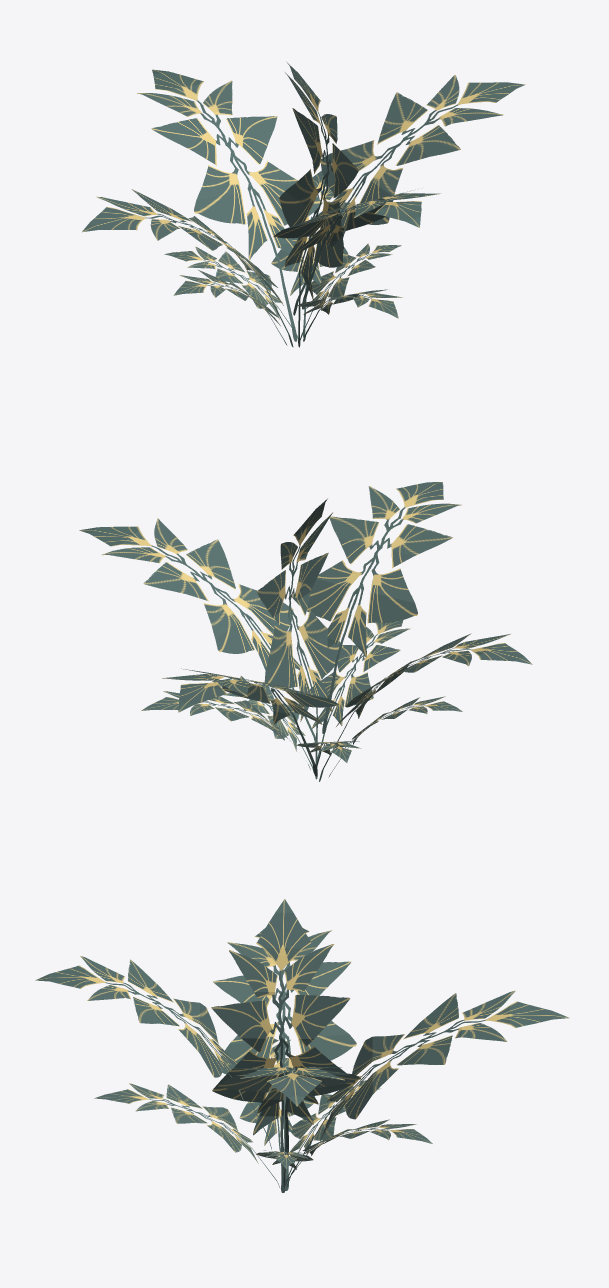
Rendered from SM_plante_low_poly.fbx.
The picture shows the model from 3 angles, top to bottom: view 1: azimuth 30°, elevation 25°; view 2: azimuth 150°, elevation 25°; view 3: azimuth 270°, elevation 25°; orthographic projection.
Visible parts, largest first — view 1: Plane.003; view 2: Plane.003; view 3: Plane.003.
Boxes of the visible parts, <box> form: Plane.003: <box>82,61,525,347</box>; Plane.003: <box>79,482,532,781</box>; Plane.003: <box>35,899,569,1192</box>.
Size of the model in its own units: 204 by 138 by 208.
